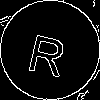R: (25, 25, 71, 78)
